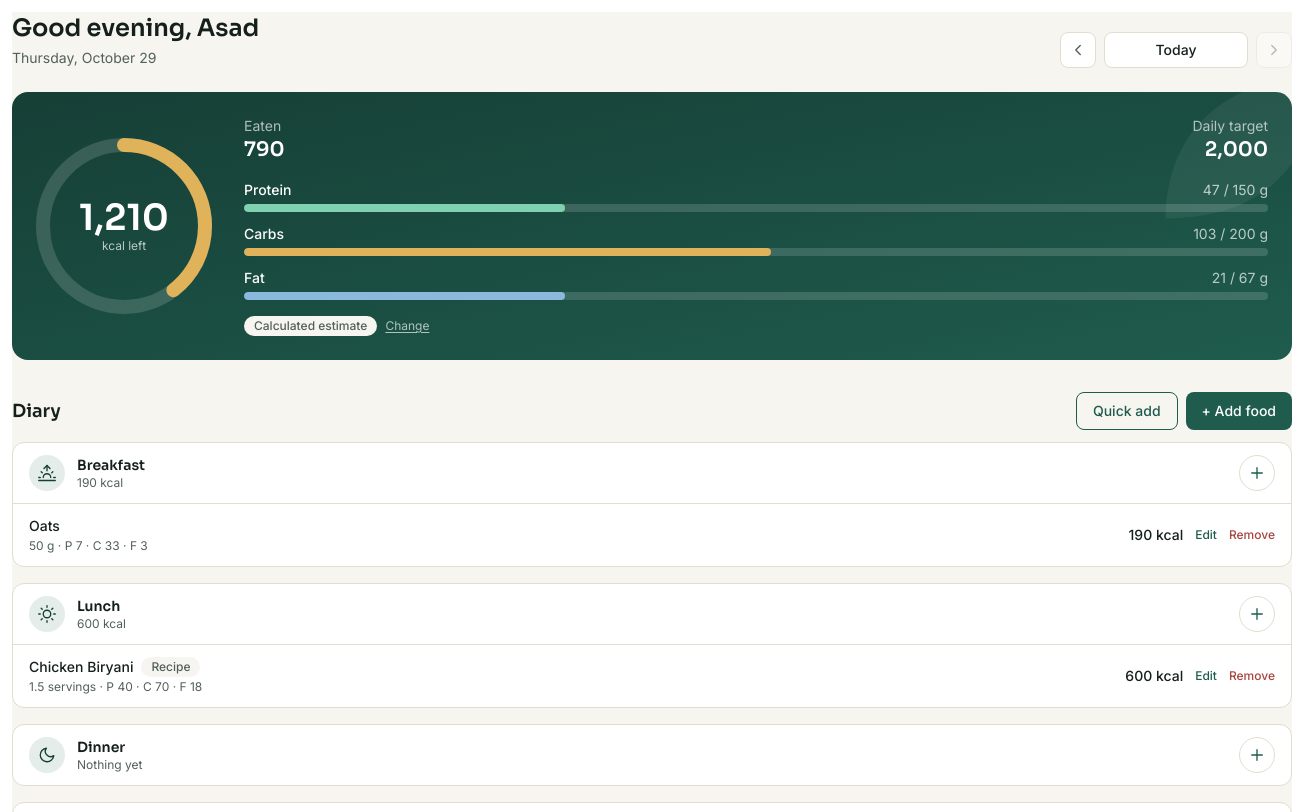
Test: Today / diary page › puts a removed entry back and says so when the server refuses
The width and height of the screenshot is (1304, 812).
Check: the text "Chicken Biryani" is shown, box [29,658,133,675]
Step 1. Click the button "Remove" in the row of "18" → (1252, 676), box [1229,668,1275,684]
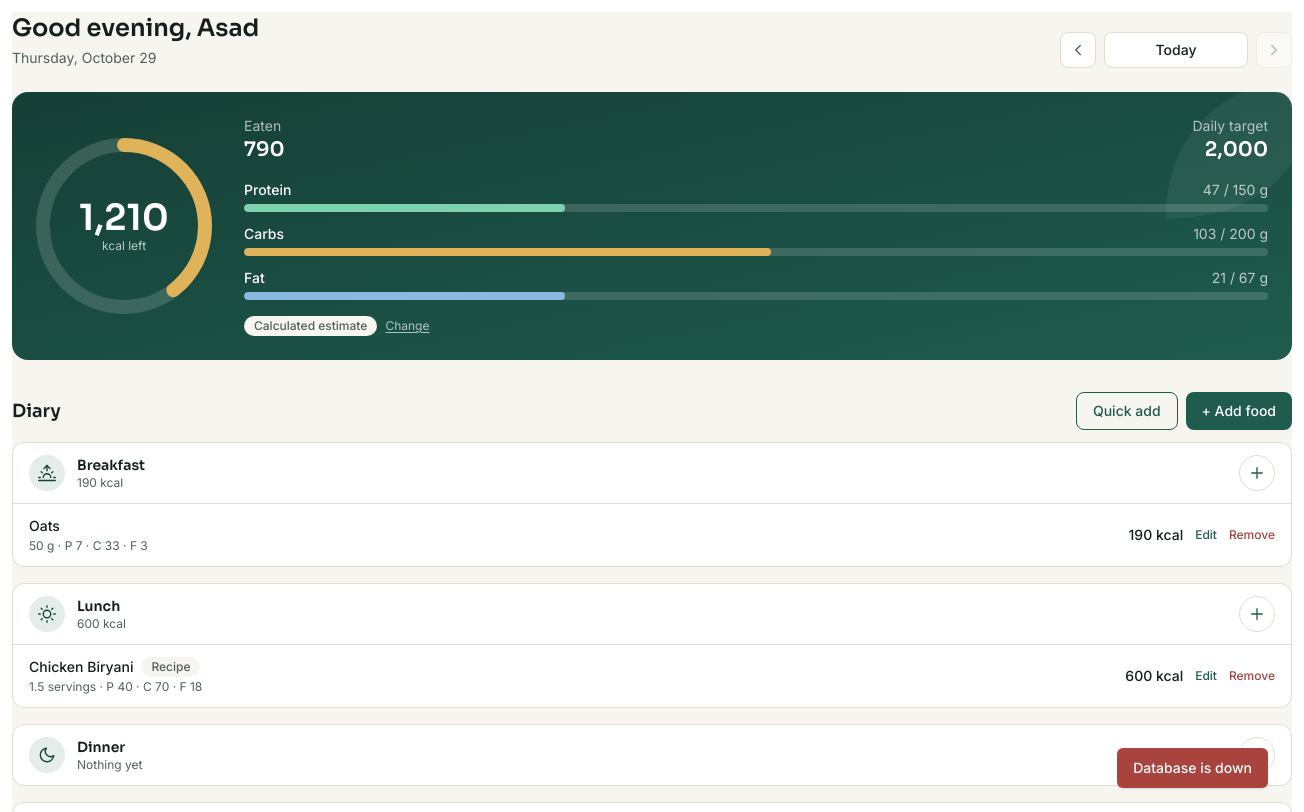
Check: the text "Chicken Biryani" is shown, box [29,658,133,675]
Check: the text "Database is down" is shown, box [1133,759,1252,776]
